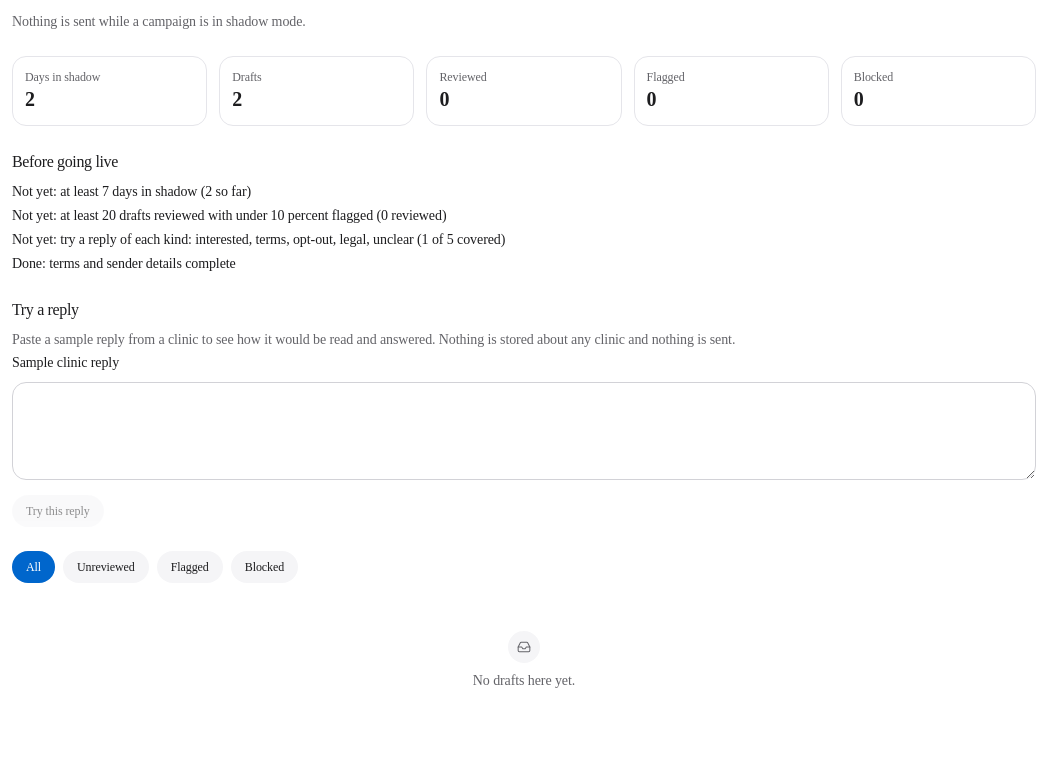
ShadowReview Phase 3 › tries a pasted reply and shows how it was read and the drafted answer
Expected: the button "Try this reply" is disabled, [12,495,104,527]
Type "What commission do you pay?" into the text box labelled "Sample clinic reply" at point(524, 431), box [12,382,1036,480]
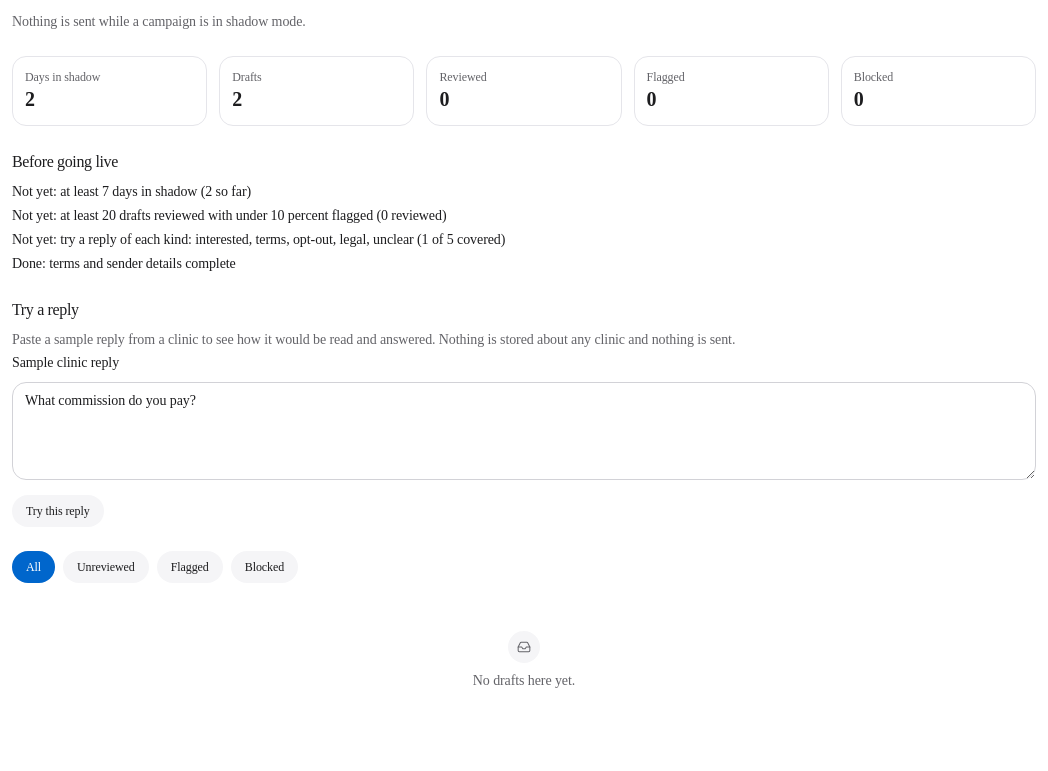
Click the button "Try this reply" at point(58, 511), box [12,495,104,527]
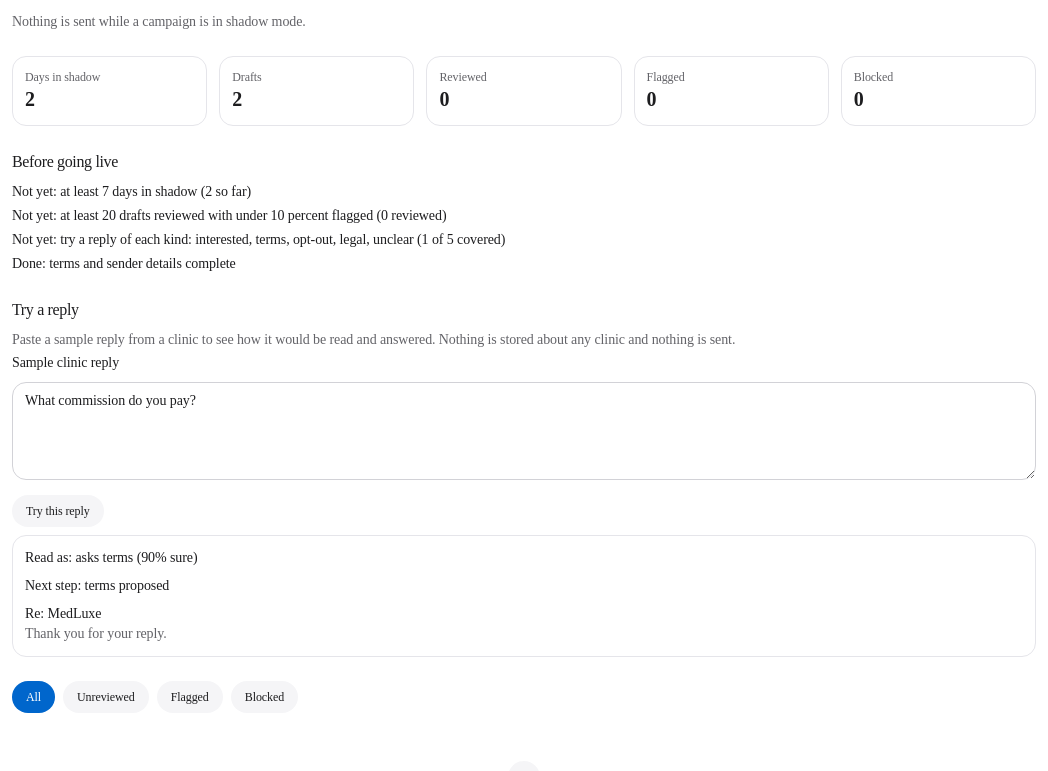
Expected: the text "Read as: asks terms (90% sure)" is shown, [25,550,198,565]
Expected: the text "Thank you for your reply." is shown, [25,626,167,641]
